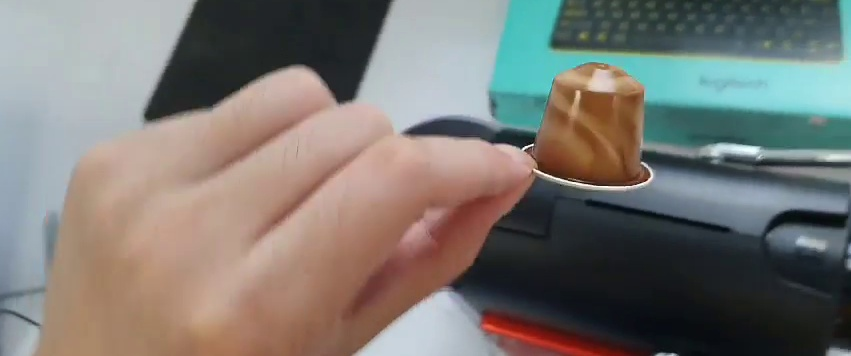capsule_12: (520, 58, 657, 197)
